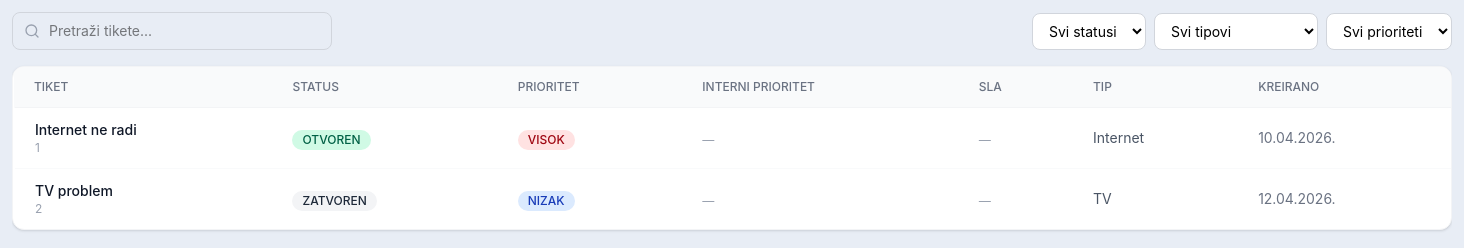
Tickets page — PB-32, PB-33 › filters tickets by status
Select "Zatvoren" in the 1st dropdown showing "Svi statusi". click: [1089, 31]
box: [1032,12,1146,50]
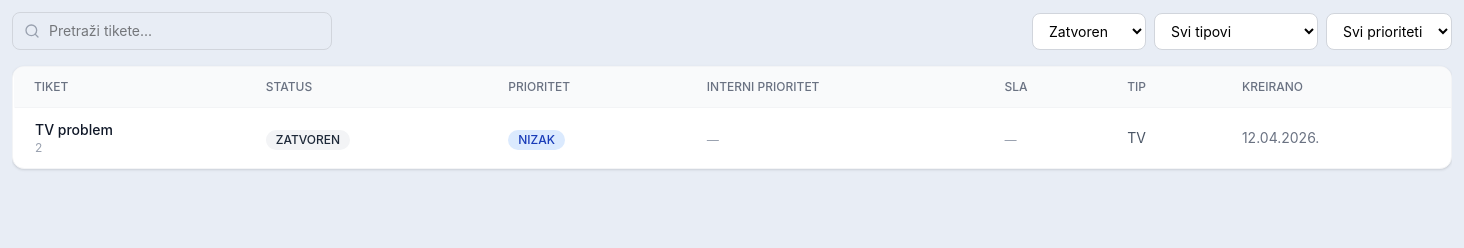
Expected: the text "Internet ne radi" is not shown
